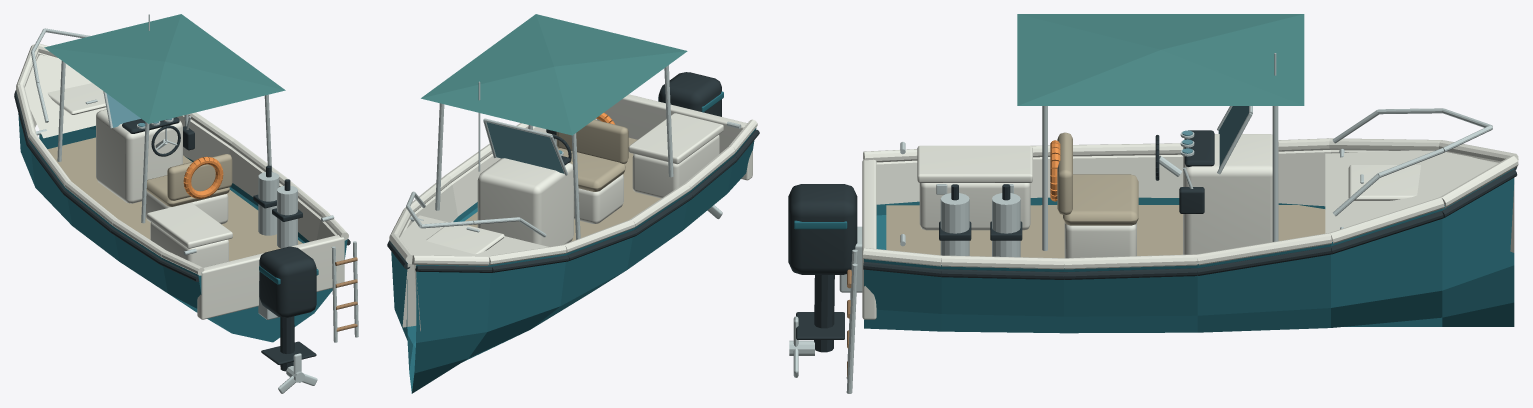
File: lantern-dive-skiff.glb
3 views of the same model, side by side, from view 1: azimuth 30°, elevation 25°; view 2: azimuth 150°, elevation 25°; view 3: azimuth 270°, elevation 25° (orthographic). The views are drawn at different scales.
Visible parts, largest first — view 1: Tensioned bimini, Hand lofted V hull, Nonslip cockpit sole, Helm console, Transom, Outboard 90 cowl, Raised foredeck, Cockpit inner liner.001, Ice chest lid, Helm backrest, Catch ice chest, Anchor hatch (+25 smaller); view 2: Hand lofted V hull, Tensioned bimini, Helm console, Transom, Ice chest lid, Catch ice chest, Cockpit inner liner.001, One piece windshield, Raised foredeck, Helm backrest, Outboard 90 cowl, Nonslip cockpit sole (+20 smaller); view 3: Hand lofted V hull, Tensioned bimini, Helm console, Cockpit inner liner, Nonslip cockpit sole, Raised foredeck, Outboard 90 cowl, Ice chest lid, Helm cushion, Catch ice chest, Helm seat base, Anchor hatch (+28 smaller).
Boxes of the visible parts, box(x1,y1,x2,y2) form: Tensioned bimini: box(44, 14, 285, 123); Hand lofted V hull: box(18, 113, 347, 342); Nonslip cockpit sole: box(47, 137, 302, 261); Helm console: box(96, 109, 182, 203); Transom: box(197, 235, 344, 319); Outboard 90 cowl: box(259, 246, 316, 317); Raised foredeck: box(25, 54, 106, 138); Cockpit inner liner.001: box(38, 52, 336, 241); Ice chest lid: box(146, 202, 232, 248); Helm backrest: box(167, 154, 232, 200); Catch ice chest: box(150, 222, 228, 267); Anchor hatch: box(47, 83, 105, 114); Hand lofted V hull: box(391, 128, 756, 393); Tensioned bimini: box(421, 14, 687, 135); Helm console: box(477, 158, 573, 246); Transom: box(597, 94, 752, 180); Ice chest lid: box(628, 113, 723, 164); Catch ice chest: box(632, 135, 719, 198); Cockpit inner liner.001: box(402, 118, 596, 331); One piece windshield: box(486, 122, 564, 173); Raised foredeck: box(400, 215, 548, 256); Helm backrest: box(556, 119, 628, 163); Outboard 90 cowl: box(658, 72, 721, 116); Nonslip cockpit sole: box(465, 137, 660, 241); Hand lofted V hull: box(864, 168, 1514, 333); Tensioned bimini: box(1017, 14, 1304, 105); Helm console: box(1183, 134, 1278, 254); Cockpit inner liner: box(876, 150, 1514, 252); Nonslip cockpit sole: box(886, 205, 1325, 258); Raised foredeck: box(1325, 150, 1496, 233); Outboard 90 cowl: box(788, 184, 857, 274); Ice chest lid: box(917, 145, 1032, 182); Helm cushion: box(1063, 174, 1138, 225); Catch ice chest: box(919, 183, 1030, 230); Helm seat base: box(1064, 222, 1136, 258); Anchor hatch: box(1348, 165, 1420, 200).
Size of the model in its own units: 2.57 by 3.29 by 6.57.
